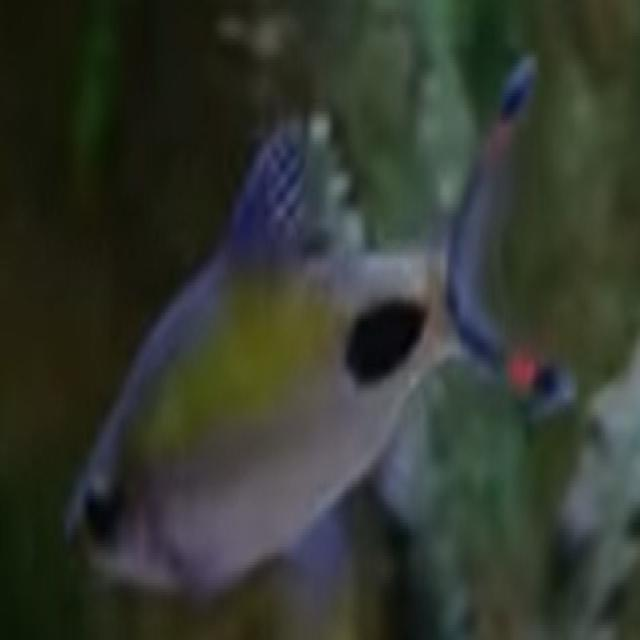Black-Spotted-Barb: (45, 50, 586, 566)
